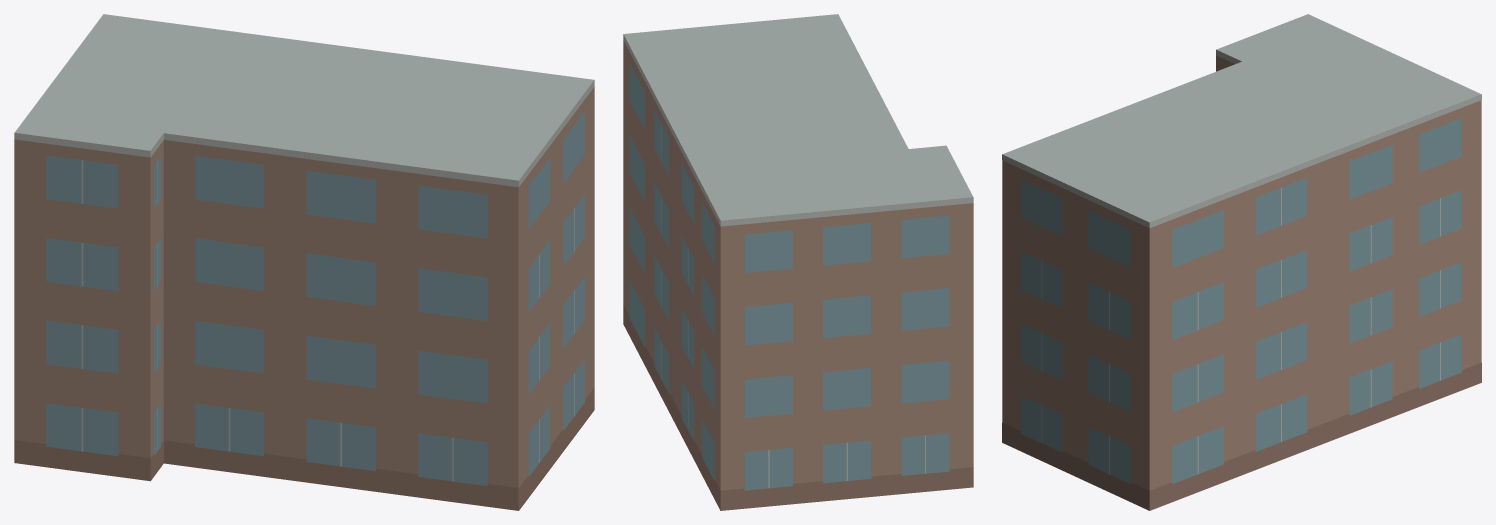
File: residential-d55e995d-1f44-4672-b00b-c6ed717892f3.glb
3 views of the same model, side by side, from view 1: azimuth 30°, elevation 25°; view 2: azimuth 150°, elevation 25°; view 3: azimuth 270°, elevation 25° (orthographic). The views are drawn at different scales.
Parts seen in each view (by area): view 1: residential-d55e995d-1f44-4672-b00b-c6ed717892f3.tmp; view 2: residential-d55e995d-1f44-4672-b00b-c6ed717892f3.tmp; view 3: residential-d55e995d-1f44-4672-b00b-c6ed717892f3.tmp.
Part boxes in pixels (x1,y1,x2,y2): residential-d55e995d-1f44-4672-b00b-c6ed717892f3.tmp: (14, 14, 594, 510); residential-d55e995d-1f44-4672-b00b-c6ed717892f3.tmp: (623, 14, 973, 510); residential-d55e995d-1f44-4672-b00b-c6ed717892f3.tmp: (1002, 14, 1481, 510).
Bounding box in the file's own units: 18.93 × 12.2 × 18.4.
